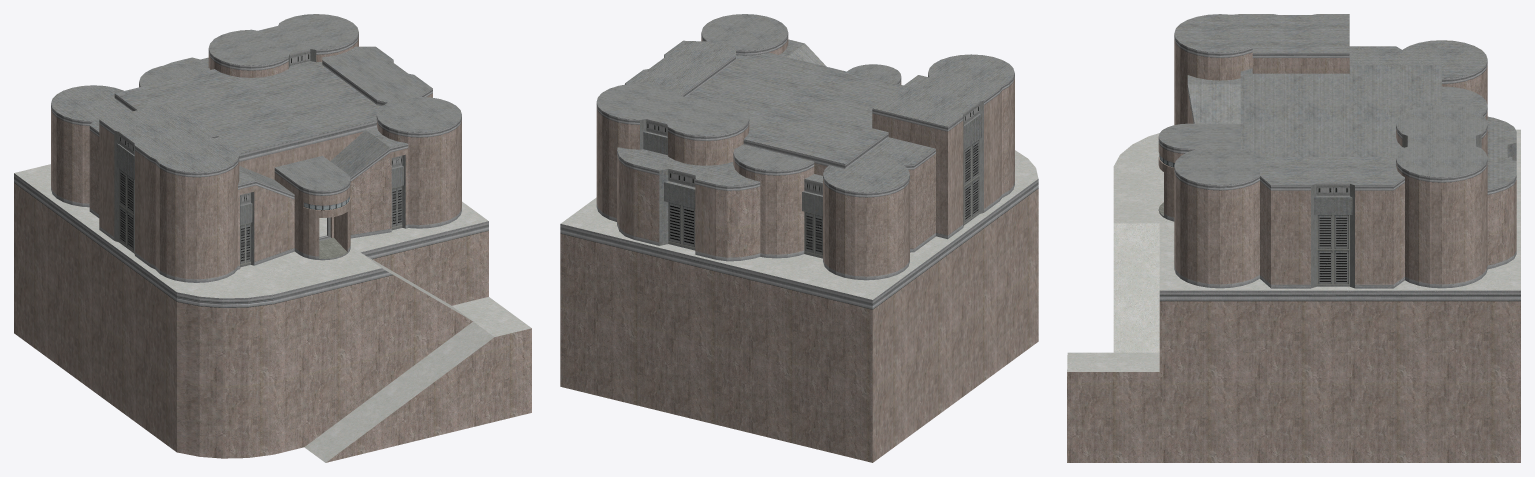
The model's file is ply_corl_house_lg_s01_fp1_r0_mesh_l0.fbx.
The picture shows the model from 3 angles, left to right: view 1: azimuth 30°, elevation 25°; view 2: azimuth 150°, elevation 25°; view 3: azimuth 270°, elevation 25°; orthographic projection. The views are drawn at different scales.
Visible parts, largest first — view 1: mesh_node; view 2: mesh_node; view 3: mesh_node.
Boxes of the visible parts, x1=… form: mesh_node: x1=14, y1=14, x2=531, y2=462; mesh_node: x1=560, y1=14, x2=1038, y2=462; mesh_node: x1=1067, y1=14, x2=1520, y2=462.
Size of the model in its own units: 33.08 by 27.88 by 39.4.
